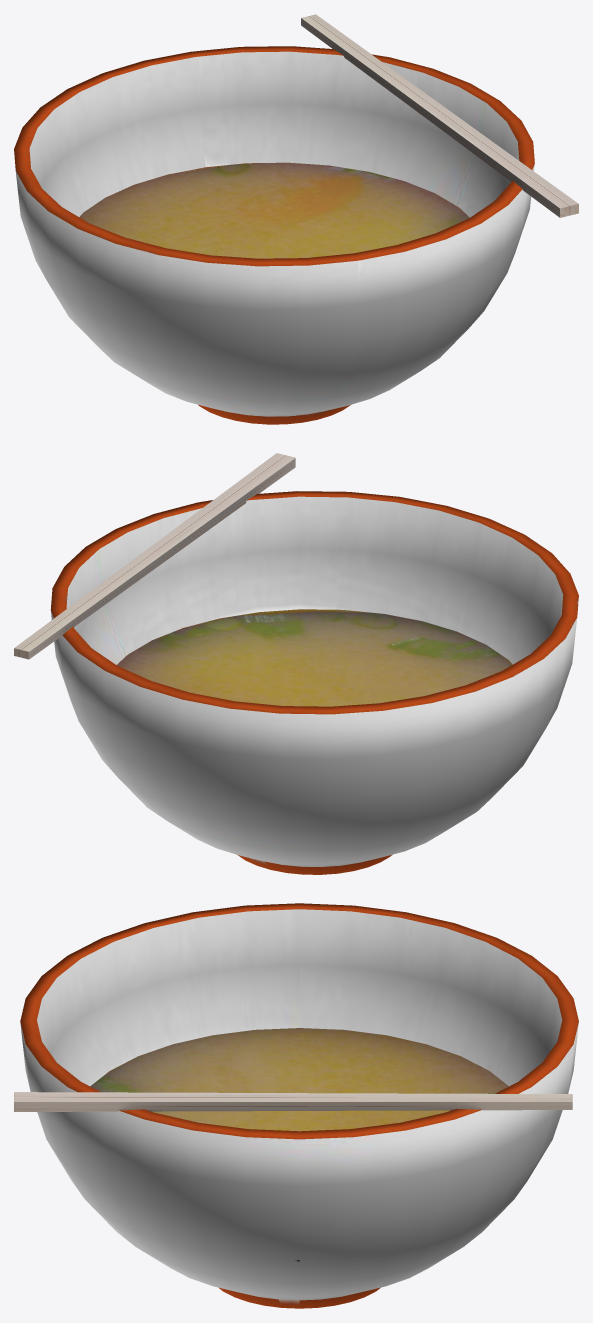
Rendered from ramen_eaten.glb.
3 renders of one model, top to bottom at view 1: azimuth 30°, elevation 25°; view 2: azimuth 150°, elevation 25°; view 3: azimuth 270°, elevation 25°, orthographic. The views are drawn at different scales.
Parts seen in each view (by area): view 1: bowl, chop; view 2: bowl, chop; view 3: bowl, chop.
Boxes of the visible parts, x1,y1,x2,y2 form: bowl: (14, 46, 534, 424); chop: (301, 14, 578, 217); bowl: (50, 491, 578, 874); chop: (14, 453, 295, 659); bowl: (20, 903, 578, 1308); chop: (14, 1092, 572, 1111).
Size of the model in its own units: 0.206 by 0.1046 by 0.2083.
Materials: 2 (2 with a texture image).
